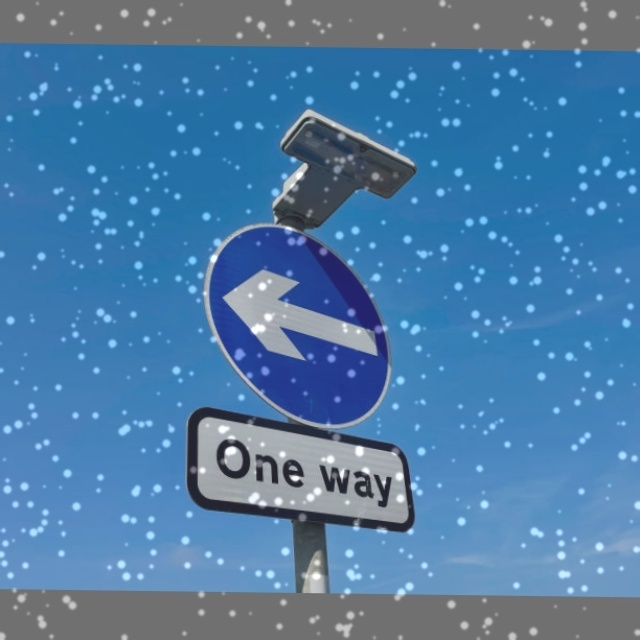Compulsory_Turn_Left: (205, 220, 400, 429)
